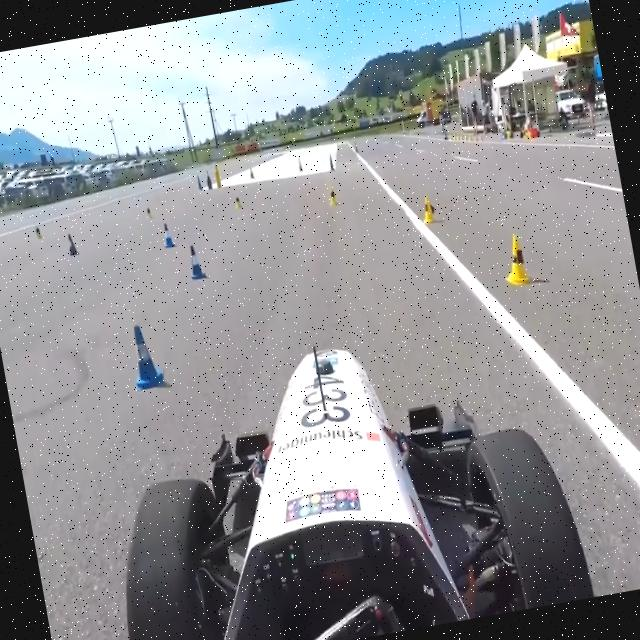blue_cone: (126, 321, 166, 393), (186, 242, 207, 280), (160, 220, 177, 248), (66, 232, 80, 257)
yellow_cone: (497, 232, 532, 290), (419, 192, 437, 225), (326, 182, 340, 208)
